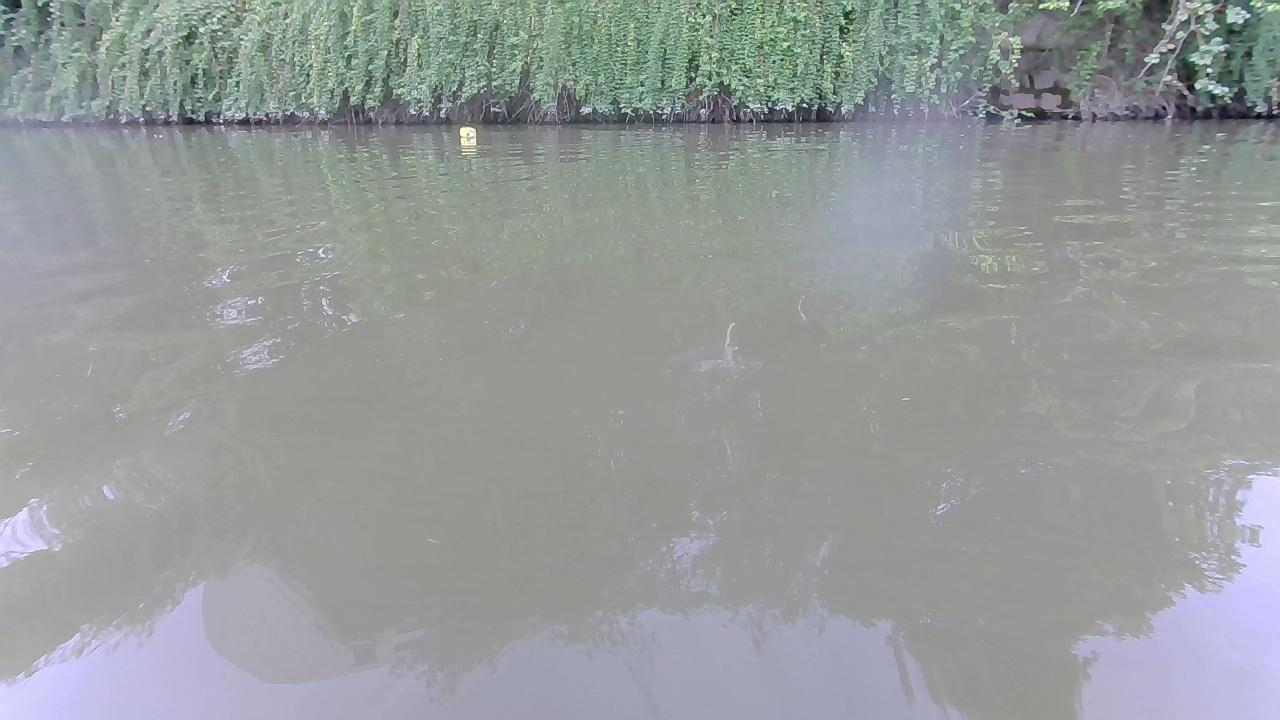bottle: (458, 122, 478, 142)
